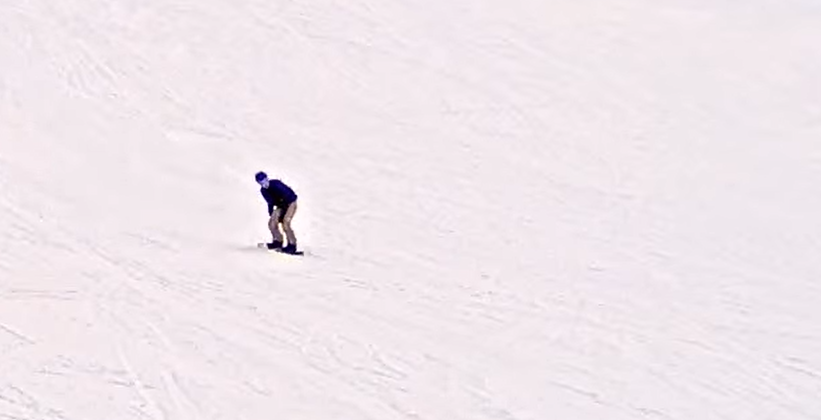snowboarder: (249, 169, 305, 256)
